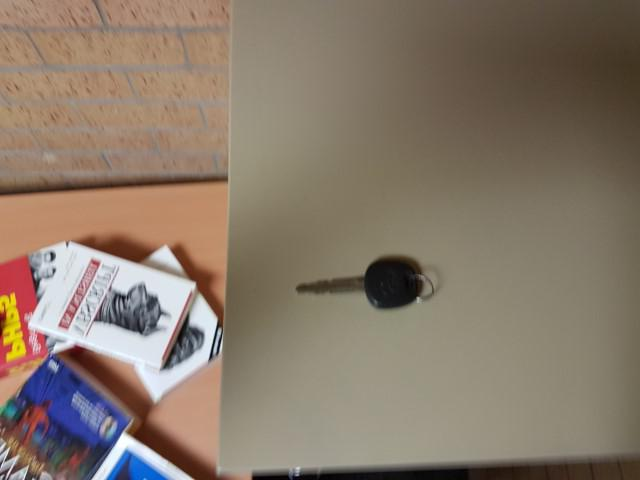key: (297, 258, 418, 309)
